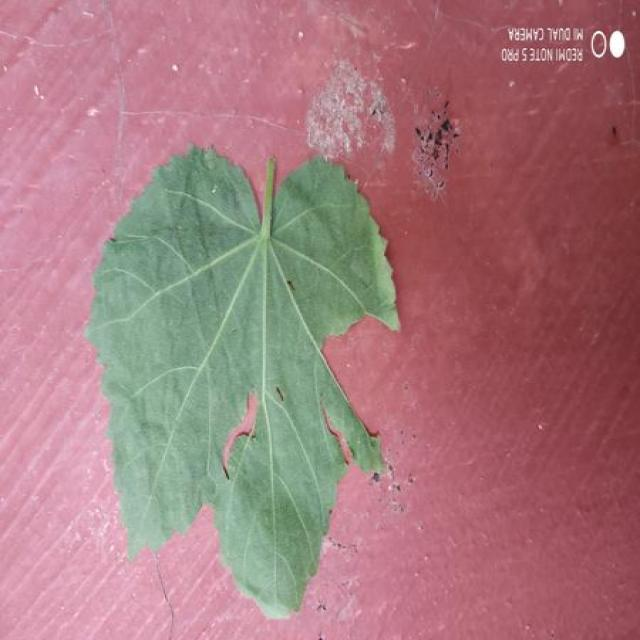kasamburga: (87, 149, 398, 617)
